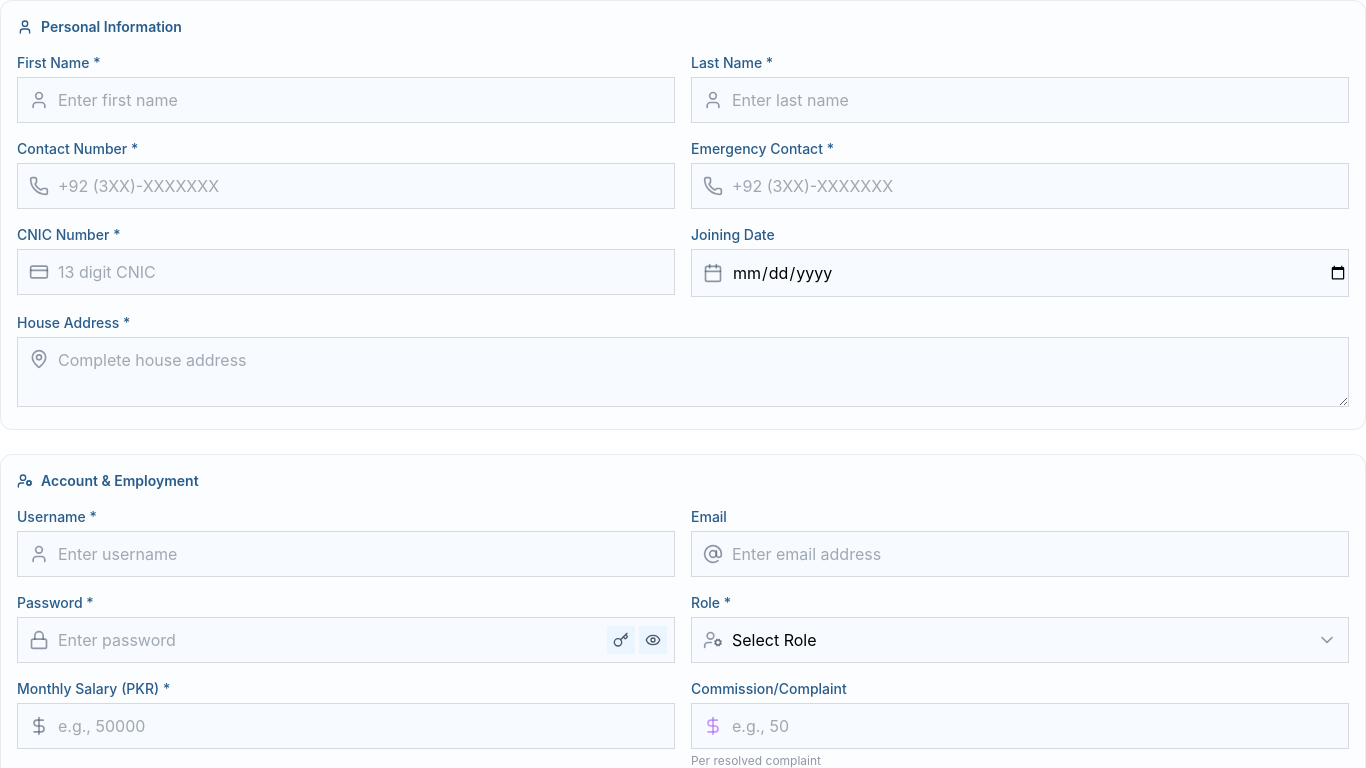
Scenario: EmployeeForm contact validation › formats employee mobile fields while typing
The width and height of the screenshot is (1366, 768).
Type "03001234567" into the field labelled "Contact Number *". click: (346, 186)
box: 17,163 -> 675,209
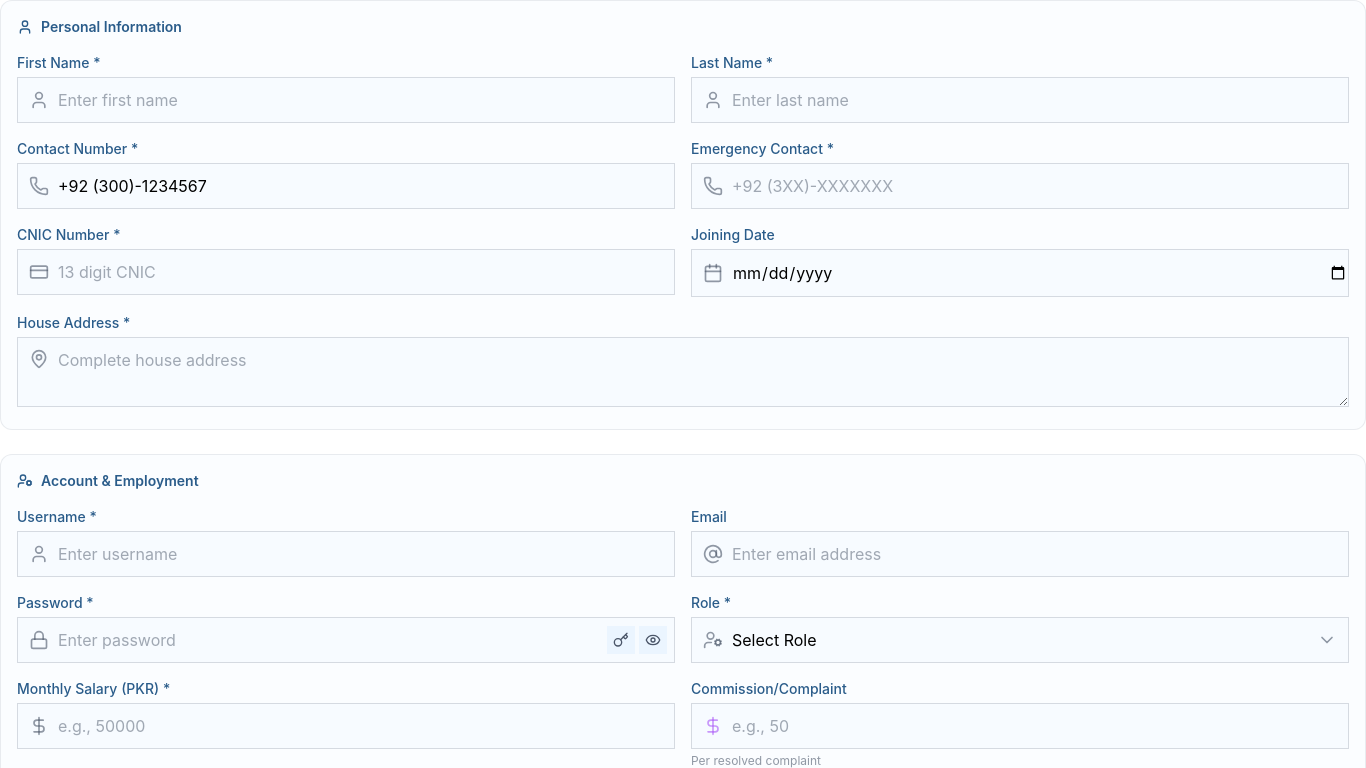
Type "+923007654321" into the field labelled "Emergency Contact *". click: (1020, 186)
box: 691,163 -> 1349,209
(page scrolled)
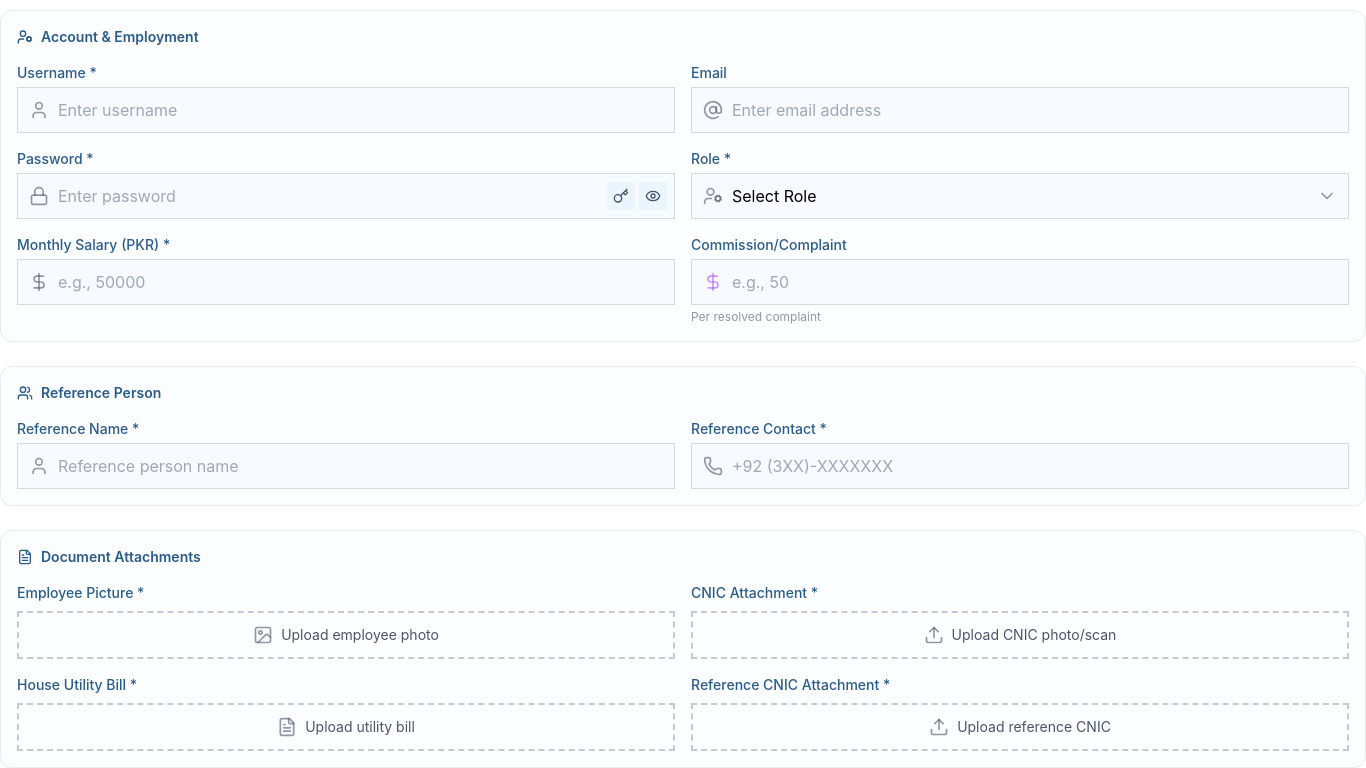
Type "3001112222" into the field labelled "Reference Contact *". click: (1020, 466)
box: 691,443 -> 1349,489
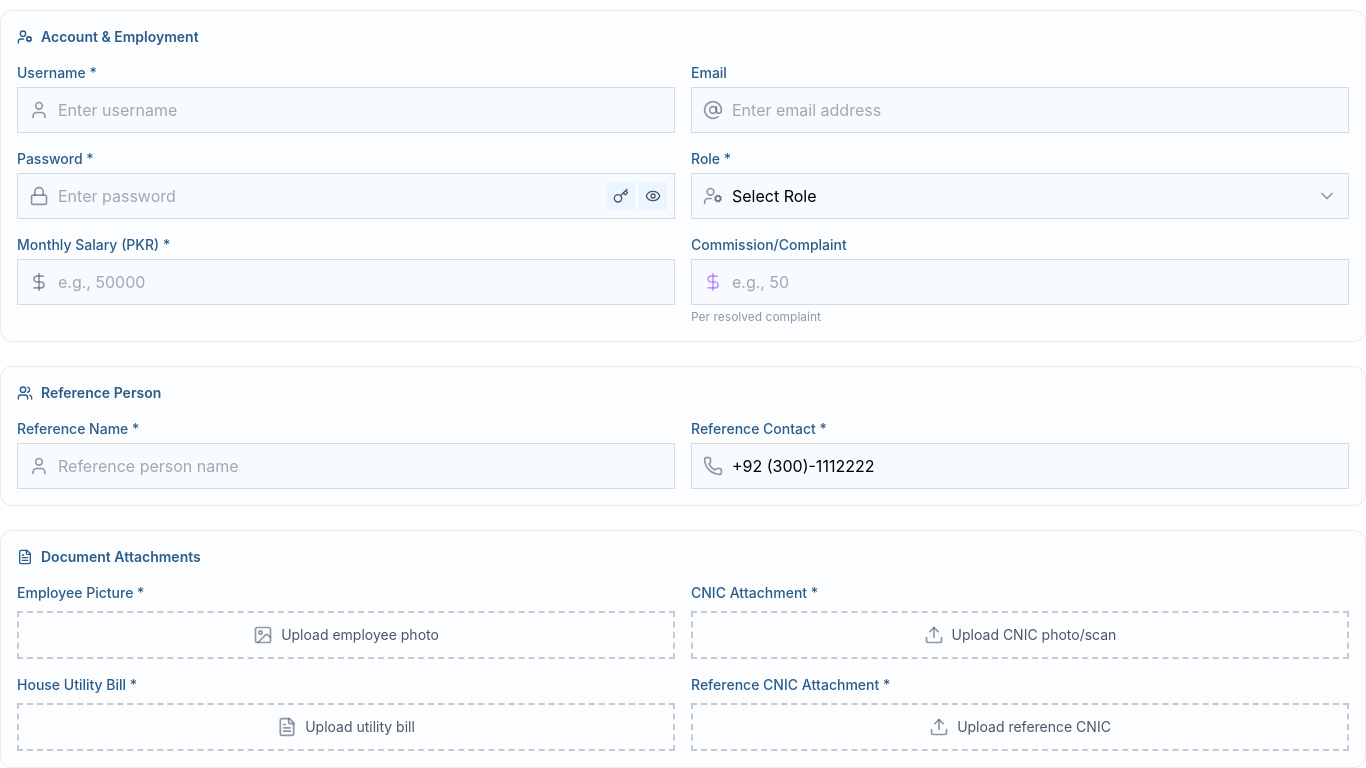
Expected: the field labelled "Reference Contact *" holds "+92 (300)-1112222", 691,443 -> 1349,489
